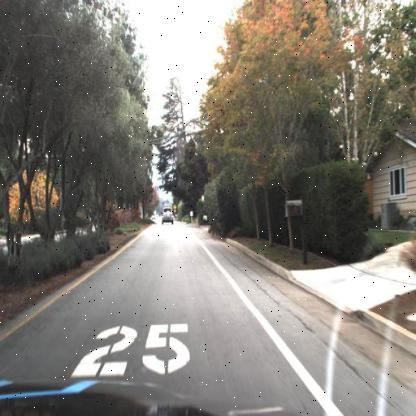car: (159, 204, 177, 227)
